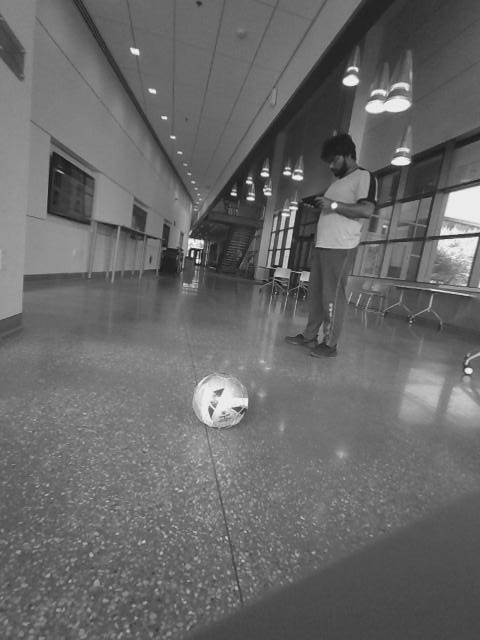ball: (189, 370, 253, 428)
